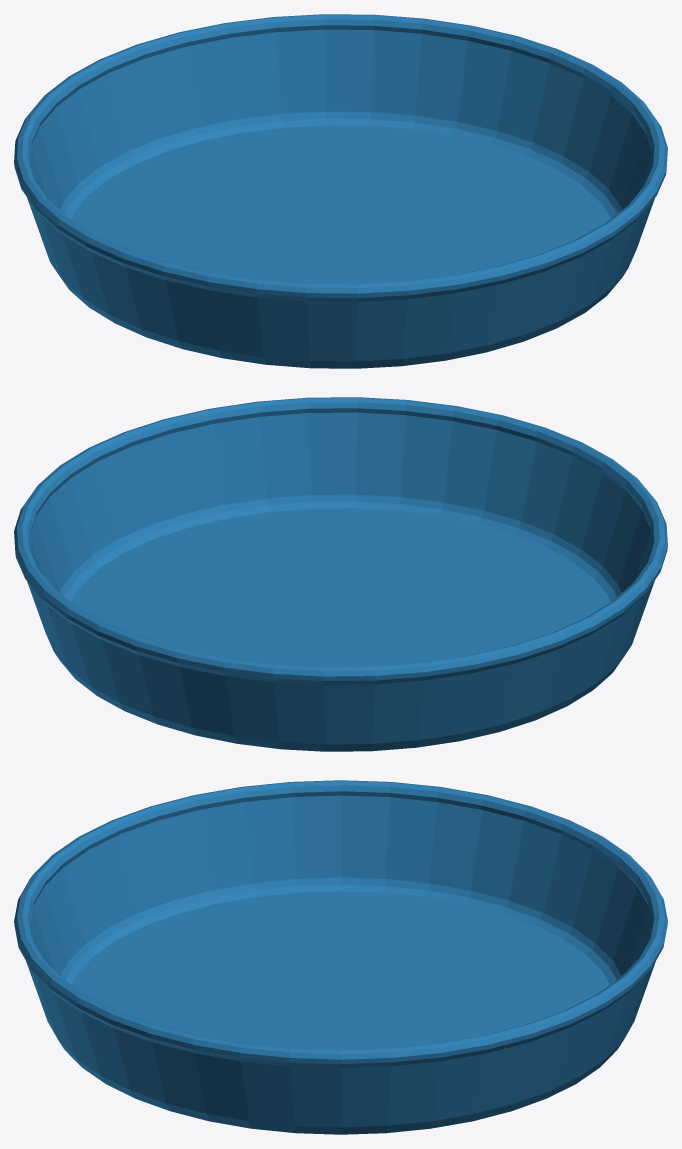
Rendered from full.fbx.
3 views of the same model, one above another, from view 1: azimuth 30°, elevation 25°; view 2: azimuth 150°, elevation 25°; view 3: azimuth 270°, elevation 25° (orthographic).
Parts seen in each view (by area): view 1: Continuous rigid paddling basin; view 2: Continuous rigid paddling basin; view 3: Continuous rigid paddling basin.
Part boxes in pixels (bbox=[...]): Continuous rigid paddling basin: bbox=[14, 14, 667, 368]; Continuous rigid paddling basin: bbox=[14, 397, 667, 751]; Continuous rigid paddling basin: bbox=[14, 780, 667, 1134].
Bounding box in the file's own units: 111 × 19 × 111.
